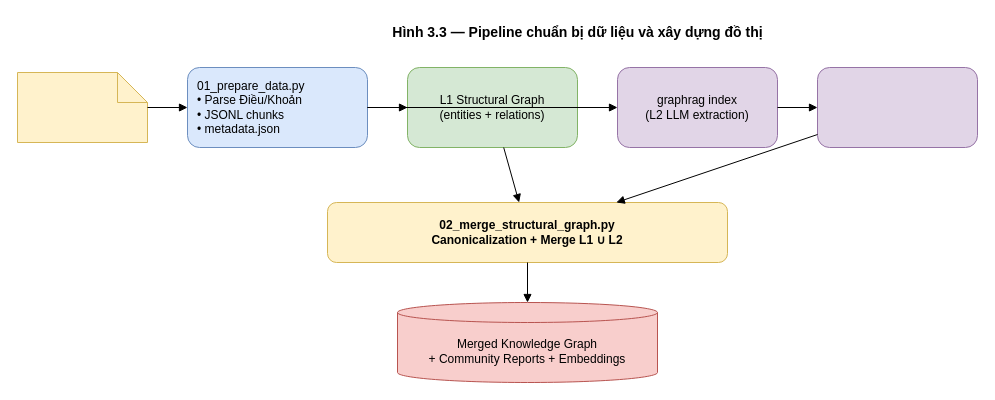
The diagram is 995 pixels wide and 400 high, and some of its shapes have lost their labels. Each missing label, with the box of its shape:
7 văn bản pháp luật (.txt thô): (16, 72, 148, 142)
L2 Semantic Graph (parquet artifacts): (816, 66, 978, 148)
